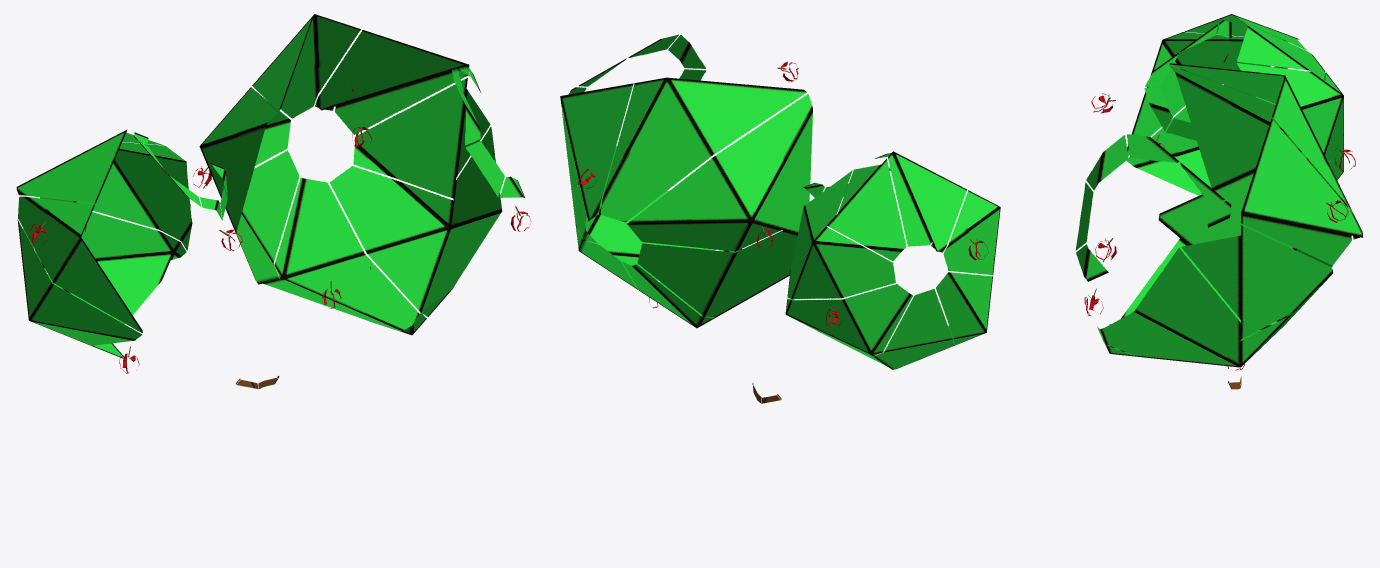
The model's file is Appletree.fbx.
3 renders of one model, left to right at view 1: azimuth 30°, elevation 25°; view 2: azimuth 150°, elevation 25°; view 3: azimuth 270°, elevation 25°, orthographic. The views are drawn at different scales.
Visible parts, largest first — view 1: Appletree; view 2: Appletree; view 3: Appletree.
Boxes of the visible parts, x1,y1,x2,y2 form: Appletree: (16,14,531,388); Appletree: (560,34,1000,403); Appletree: (1075,14,1363,389).
Bounding box in the file's own units: 390 × 415 × 247.
